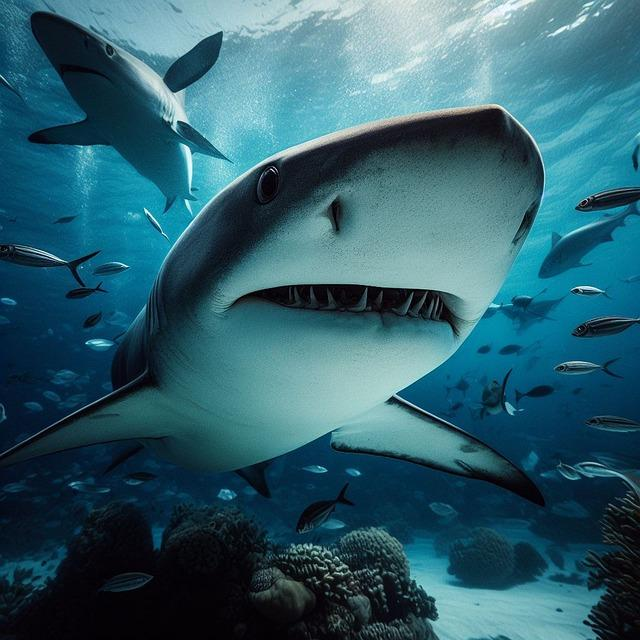Carnivorous: (0, 105, 546, 507), (25, 12, 227, 213)
